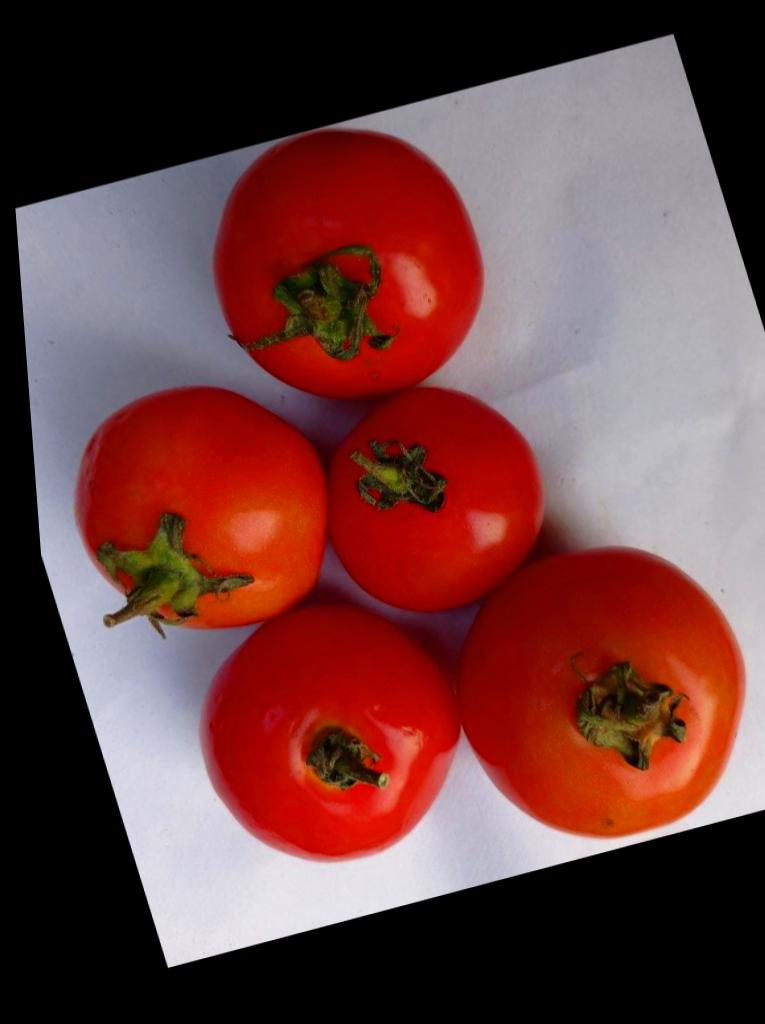tomato: (459, 547, 742, 836), (213, 130, 481, 397), (202, 608, 453, 859), (75, 388, 321, 628), (333, 388, 540, 610)
